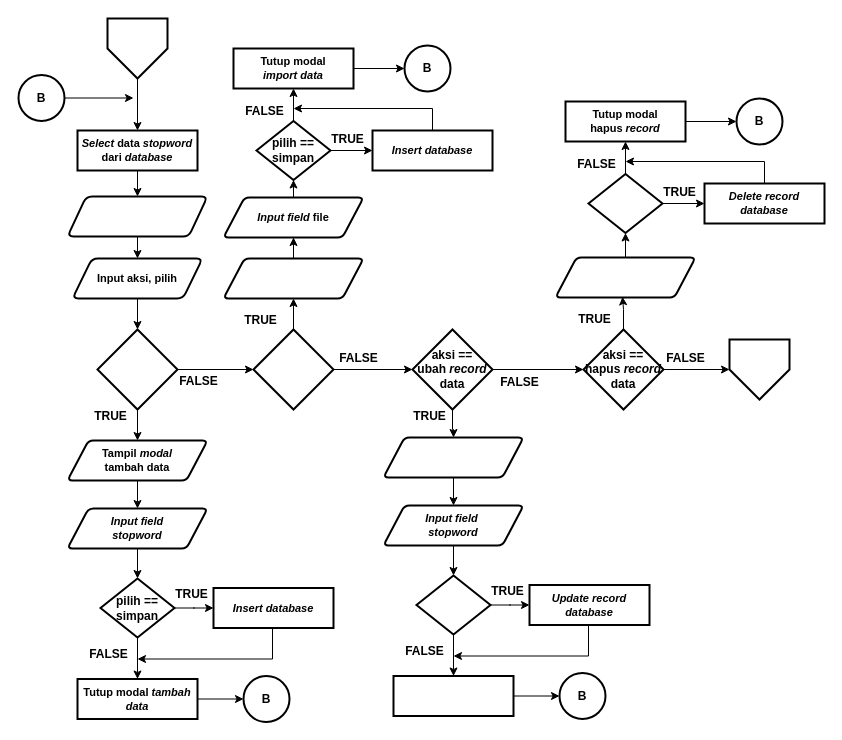
Some shapes in this 842 by 740 pixel diagram are drawn without their labels. The centre of each missing label's shape, as x and y in pixels:
"aksi == import data" belongs at pixel 293 369.
"aksi == tambah data" belongs at pixel 137 369.
"MA" belongs at pixel 759 369.
"pilih == hapus" belongs at pixel 625 203.
"pilih == ubah" belongs at pixel 453 604.
"ST" belongs at pixel 137 48.
"Tampil modal hapus record" belongs at pixel 625 277.
"Tampil modal import data" belongs at pixel 293 278.
"Tampil modal ubah record, value input field" belongs at pixel 453 457.
"Tampilkan halaman kamus stopword" belongs at pixel 137 216.
"Tutup modal ubah record" belongs at pixel 453 695.
